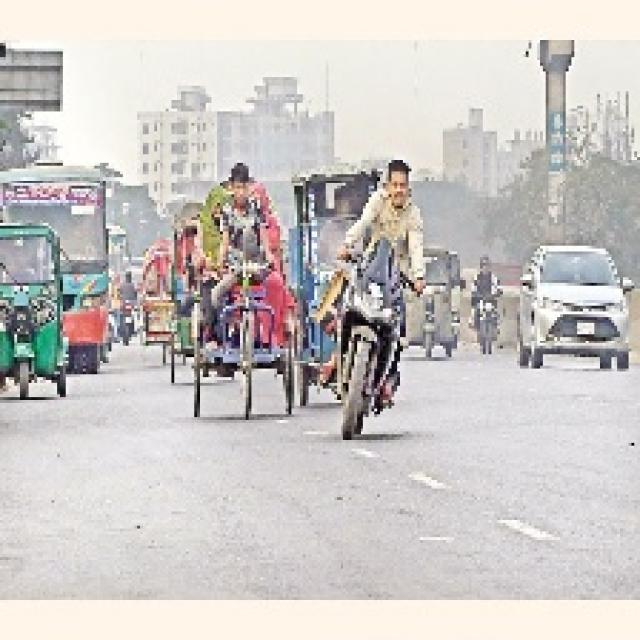bike: (318, 255, 425, 444), (468, 278, 505, 359)
car: (510, 232, 636, 377)
rickshaw: (190, 179, 292, 418)
